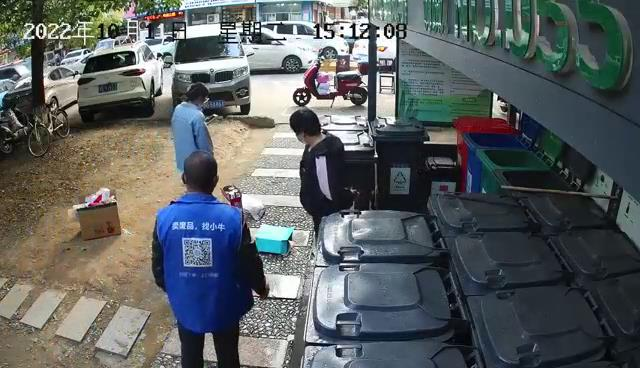person: (288, 106, 351, 231)
suliaozhipin: (242, 193, 265, 221)
worker: (151, 149, 270, 368), (170, 81, 217, 184)
zhizhipin: (68, 187, 123, 242), (254, 222, 295, 256), (218, 183, 243, 208)
